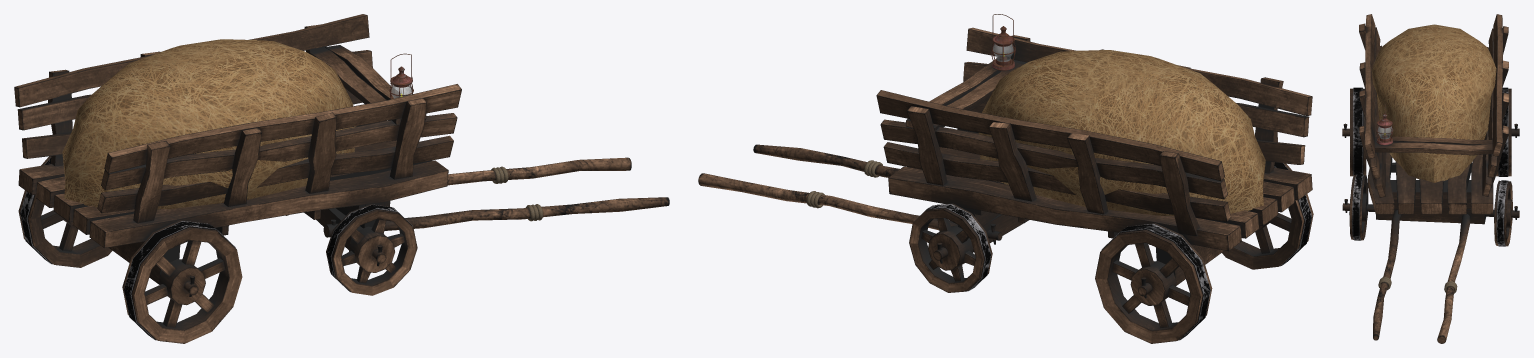
Rendered from Car0.glb.
The picture shows the model from 3 angles, left to right: view 1: azimuth 30°, elevation 25°; view 2: azimuth 150°, elevation 25°; view 3: azimuth 270°, elevation 25°; orthographic projection. The views are drawn at different scales.
Visible parts, largest first — view 1: Object_16; view 2: Object_16; view 3: Object_16.
Boxes of the visible parts, box(x1,y1,x2,y2) form: Object_16: box(14, 14, 669, 343); Object_16: box(698, 14, 1313, 343); Object_16: box(1342, 14, 1519, 343).
Size of the model in its own units: 4.88 by 1.82 by 1.86.
Materials: 7 (7 with a texture image).
